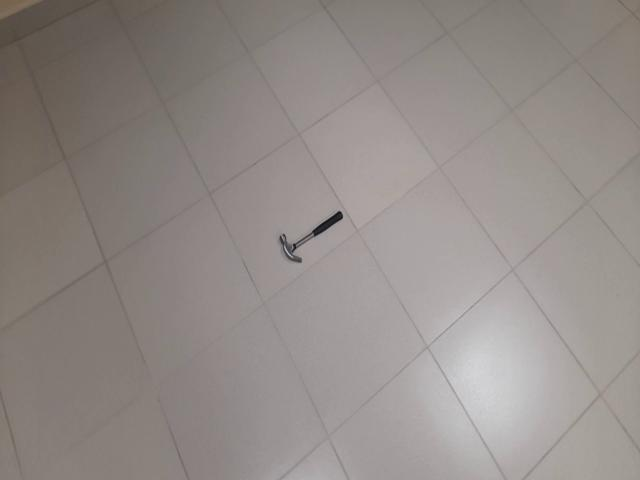Hammer: (280, 212, 342, 263)
